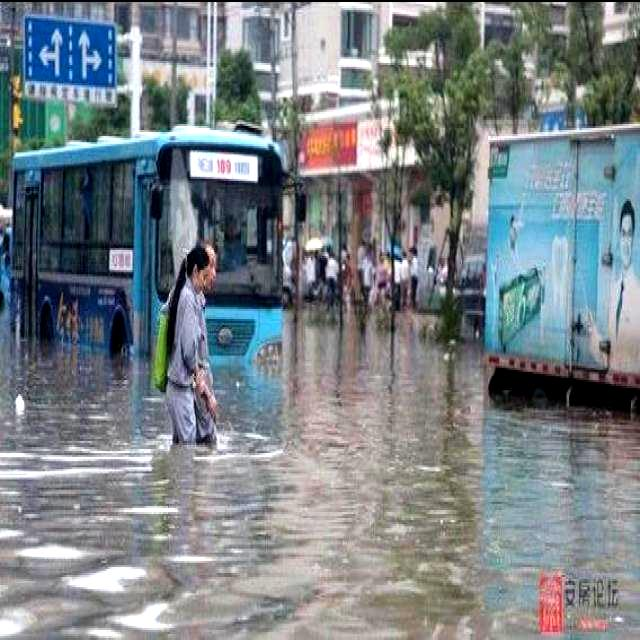civilian: (157, 242, 226, 458)
